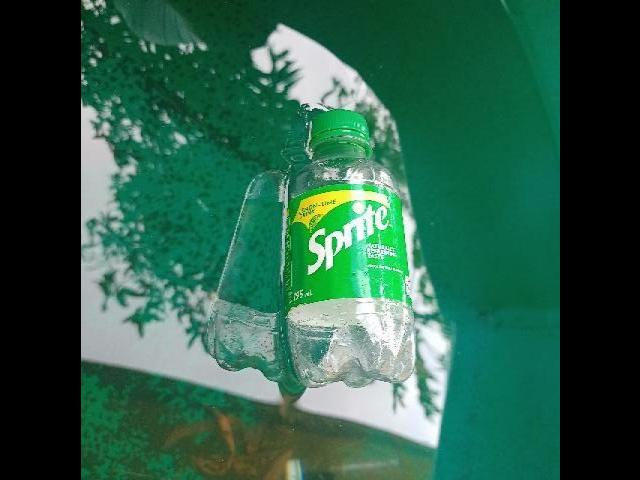Bottle: (274, 112, 418, 394)
